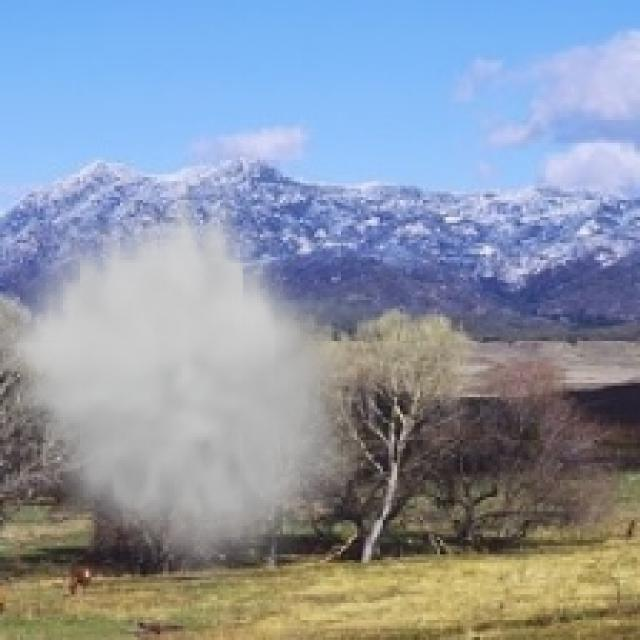smoke: (0, 186, 357, 583)
